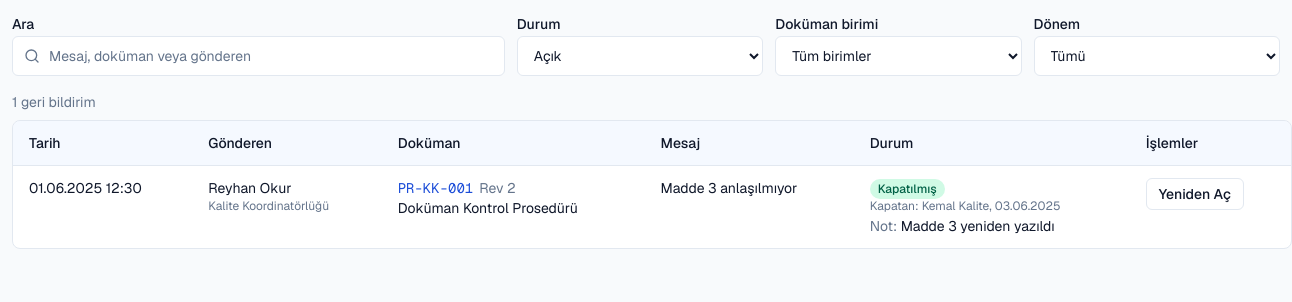
FeedbackList › closed feedback › shows the refusal when somebody changed it meanwhile
This screenshot has width=1292, height=302.
Expected: the table named "Geri bildirimler" is shown, [13,121,1291,248]
Click the button "Yeniden Aç" at (1195, 194), box [1146,178,1244,210]
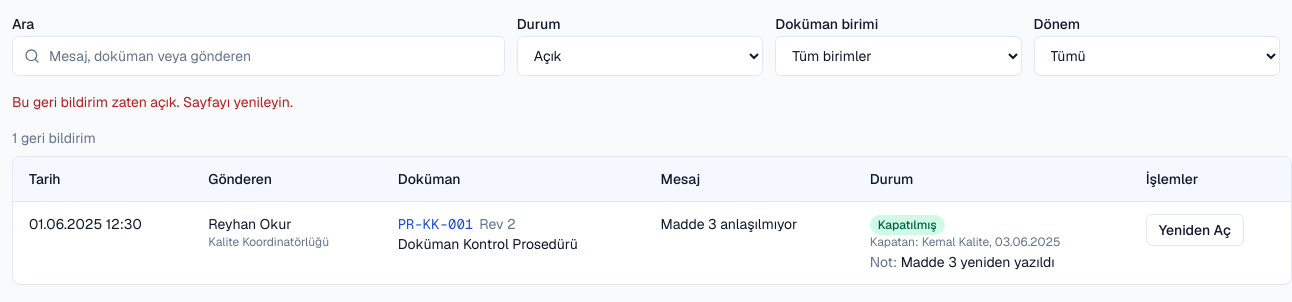
Result: the message reads "Bu geri bildirim zaten açık. Sayfayı yenileyin." at [12,93,293,111]
